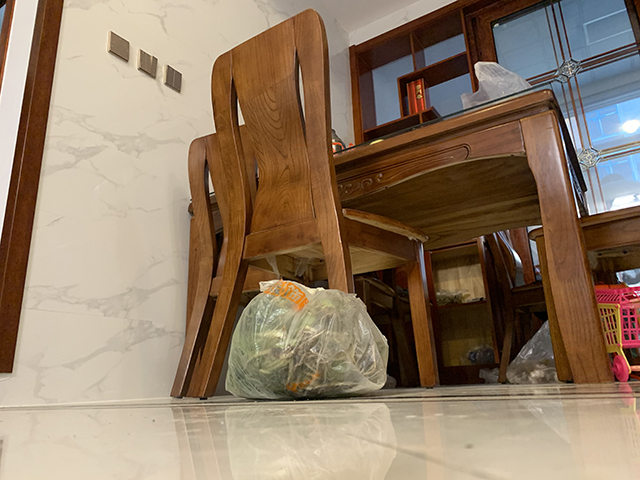stool: (185, 8, 439, 401)
table: (333, 82, 616, 384)
